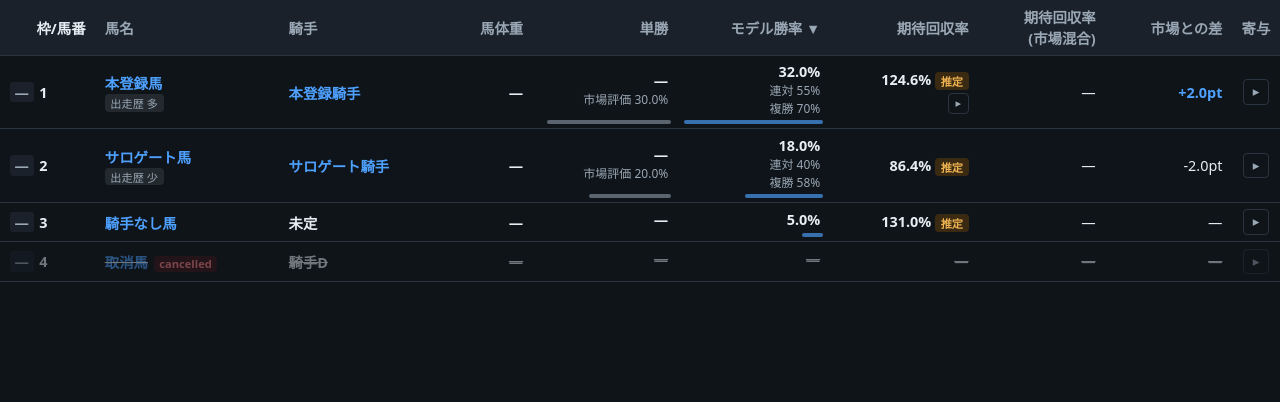
Test case: HorseEntriesTable 注目条件 (138) › S5 only → no chip; the breakdown says 「対照 S5 に該当」 (US1 scenario 7)
This screenshot has width=1280, height=402.
Click the button named "注目条件の内訳".
click(958, 104)  # box [948,93,969,114]
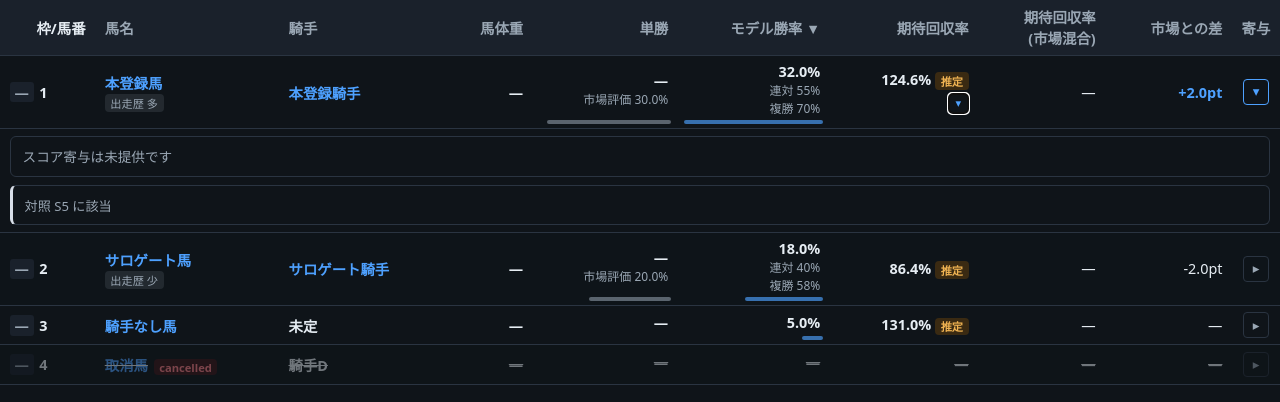
Now the element with test id "attention-panel" reads "対照 S5 に該当", box [10,185,1270,225]
